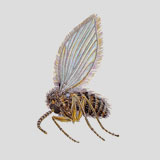phorid fly: (27, 10, 122, 146)
